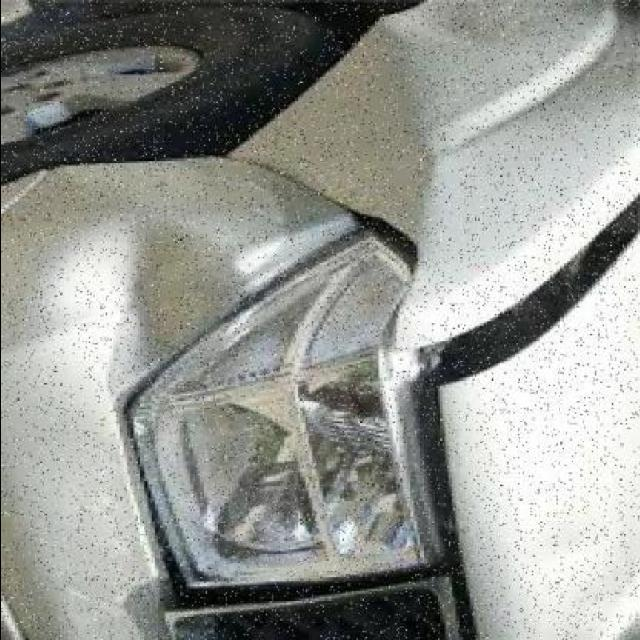fender-dent: (209, 0, 567, 352)
front-bumper-dent: (3, 128, 294, 629)
